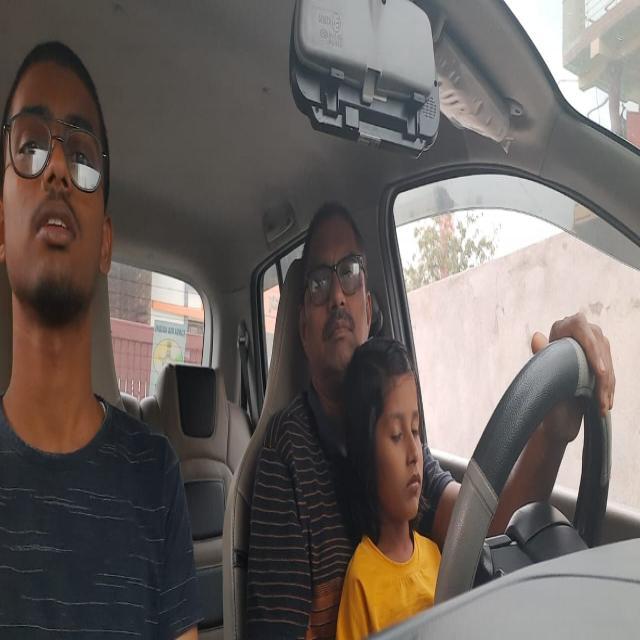child: (356, 335, 436, 544)
person: (1, 38, 120, 381), (297, 196, 371, 390)
